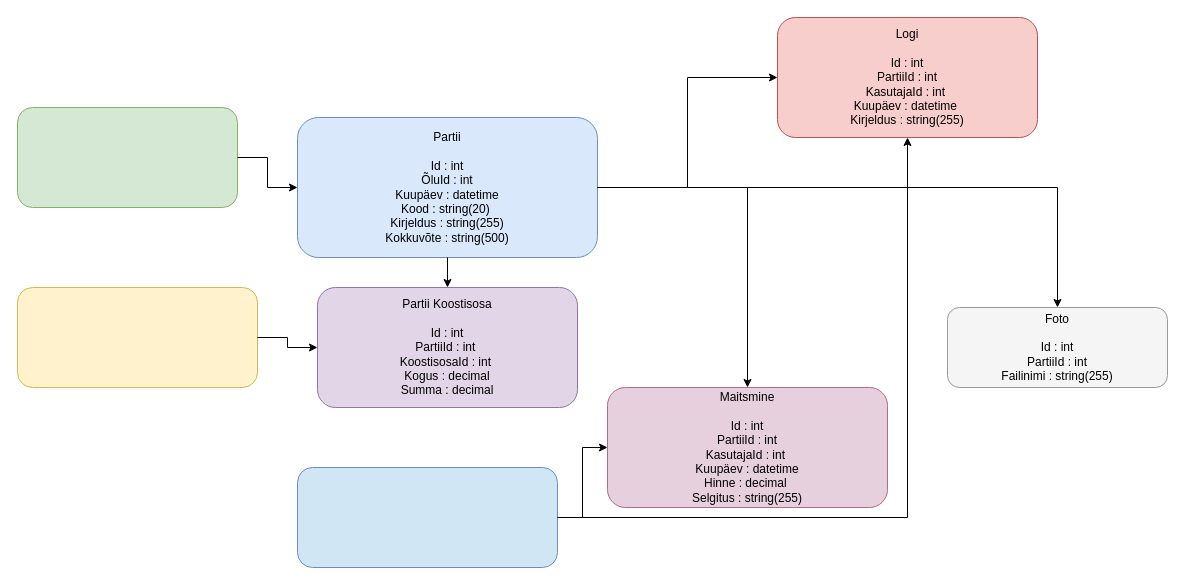
This 1185x585 diagram has some shape labels left out. Here are the shapes that lost their labels. From the top down, the centre of each, then its label:
the point at 127,157: Õlu Id : int Nimi : string(100) Kirjeldus : string(255)
the point at 137,337: Koostisosa Id : int Nimetus : string(100) Ühik : string(20) Ühikuhind : decimal
the point at 427,517: Kasutaja Id : int Nimi : string(100) Email : string(100) Parool : string(100)
